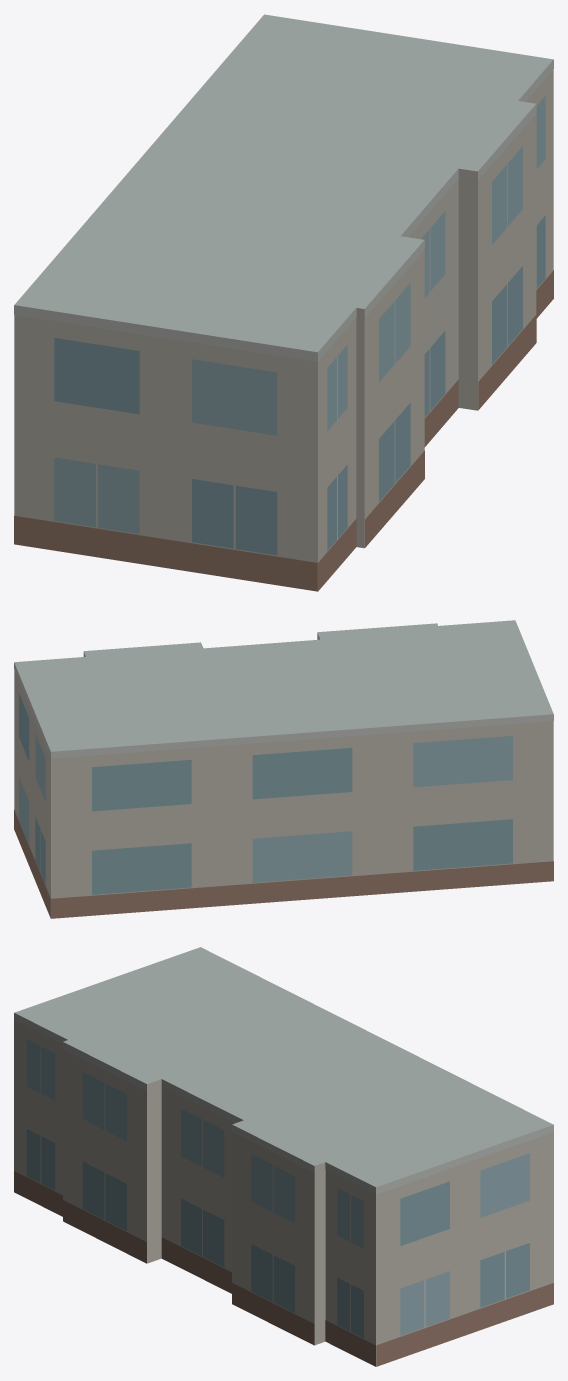
Rendered from survey-upis-32992507.glb.
3 views of the same model, one above another, from view 1: azimuth 30°, elevation 25°; view 2: azimuth 150°, elevation 25°; view 3: azimuth 270°, elevation 25° (orthographic). The views are drawn at different scales.
Visible parts, largest first — view 1: survey-upis-32992507.tmp; view 2: survey-upis-32992507.tmp; view 3: survey-upis-32992507.tmp.
Boxes of the visible parts, bbox=[...] form: survey-upis-32992507.tmp: bbox=[14, 14, 553, 591]; survey-upis-32992507.tmp: bbox=[14, 620, 553, 918]; survey-upis-32992507.tmp: bbox=[14, 947, 553, 1366].
Size of the model in its own units: 17.53 by 6.1 by 16.63.
